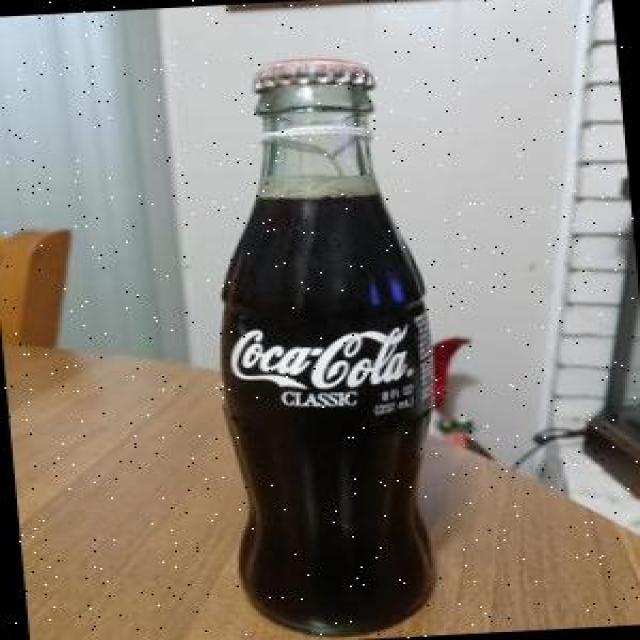coca-cola: (182, 53, 456, 640)
